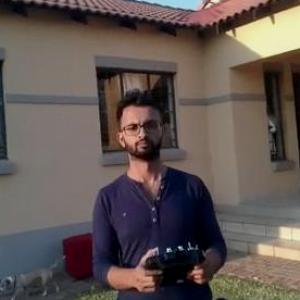follow: (84, 85, 232, 299)
null: (1, 250, 70, 299)
